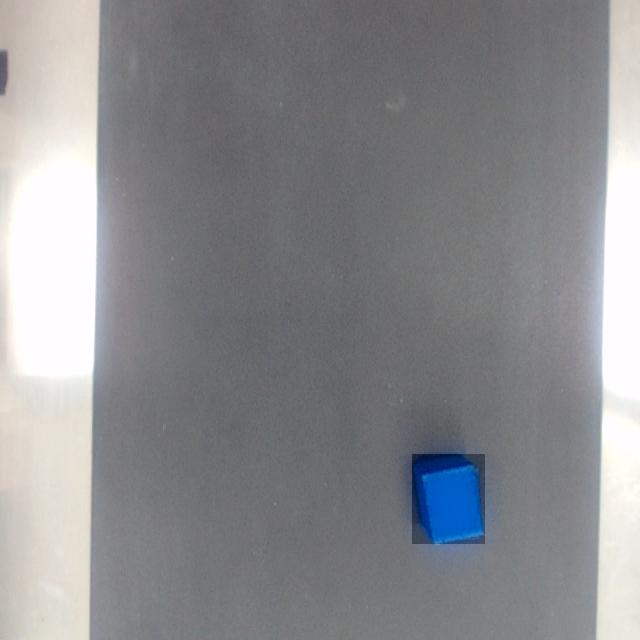Azul: (413, 454, 485, 544)
